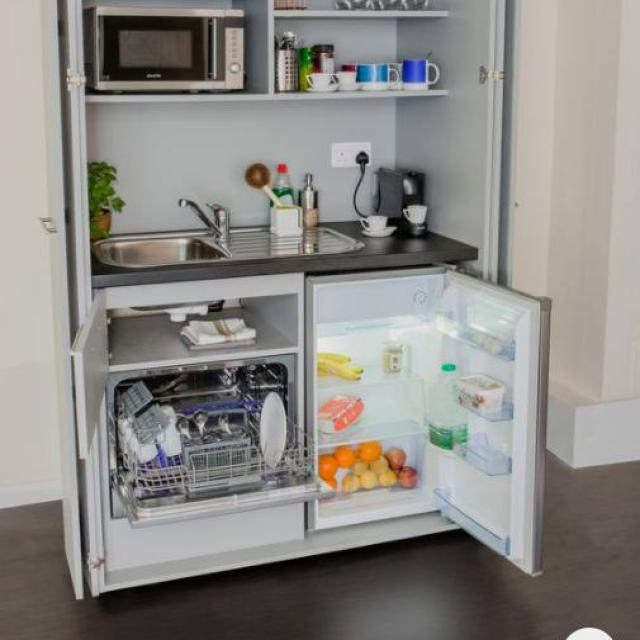dishwasher: (106, 346, 338, 532)
